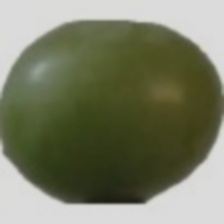grapes: (34, 38, 185, 206)
